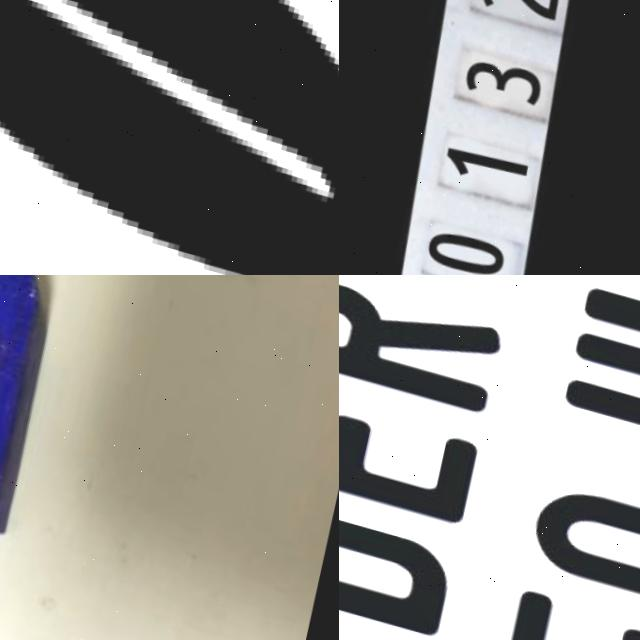0: (0, 0, 339, 275), (518, 473, 640, 627), (412, 215, 509, 275)
1: (429, 127, 533, 210)
2: (468, 0, 562, 34)
3: (452, 39, 550, 119)
D: (339, 475, 455, 634)
E: (339, 364, 481, 522)
F: (498, 581, 640, 640)
H: (559, 318, 640, 466)
R: (339, 275, 503, 415)
